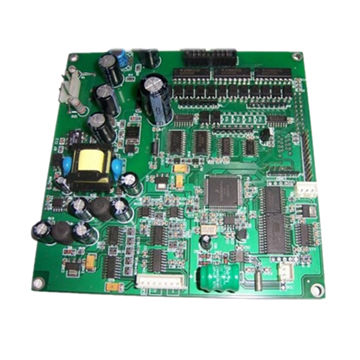capacitor: (137, 69, 177, 130), (90, 81, 129, 121), (96, 53, 127, 88), (87, 112, 118, 147), (27, 217, 58, 246), (107, 192, 134, 225), (72, 218, 100, 245), (118, 173, 148, 193), (67, 195, 92, 218)
